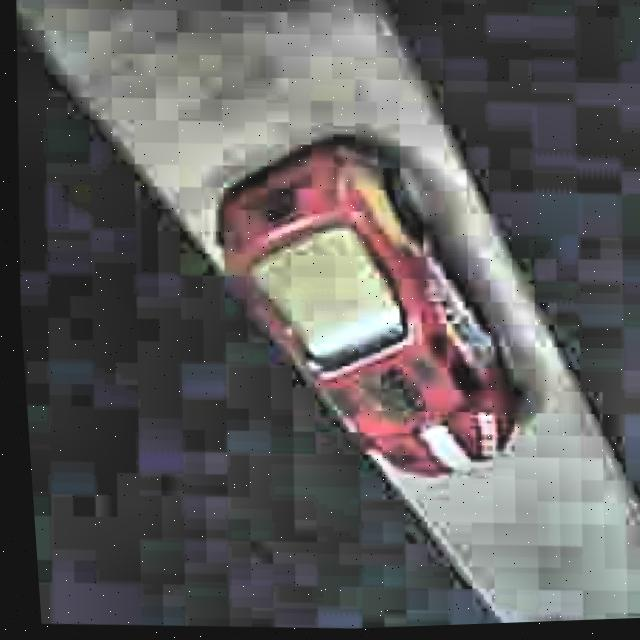car: (193, 119, 547, 495)
